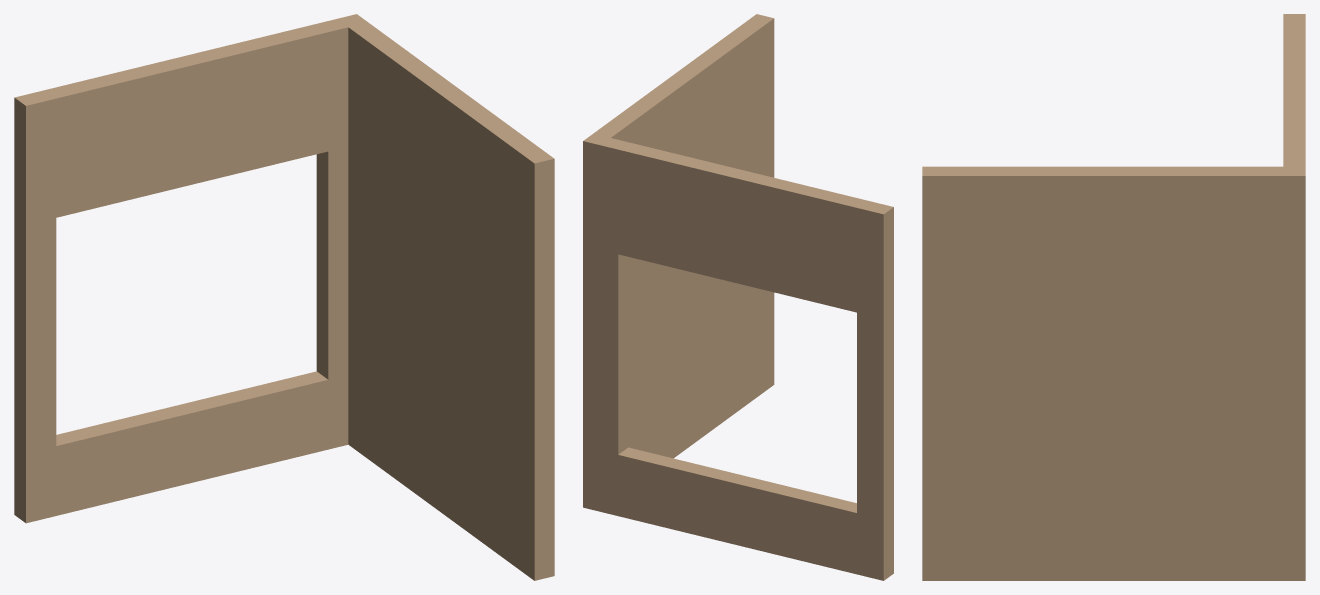
The model's file is Wall2_C1_13.fbx.
3 renders of one model, left to right at view 1: azimuth 30°, elevation 25°; view 2: azimuth 150°, elevation 25°; view 3: azimuth 270°, elevation 25°, orthographic. The views are drawn at different scales.
Parts seen in each view (by area): view 1: Wall2_C1_13; view 2: Wall2_C1_13; view 3: Wall2_C1_13.
Boxes of the visible parts, left/top/right/bottom form: Wall2_C1_13: left=14, top=14, right=554, bottom=580; Wall2_C1_13: left=583, top=14, right=893, bottom=580; Wall2_C1_13: left=922, top=14, right=1305, bottom=580.
Size of the model in its own units: 258 by 300 by 258.
